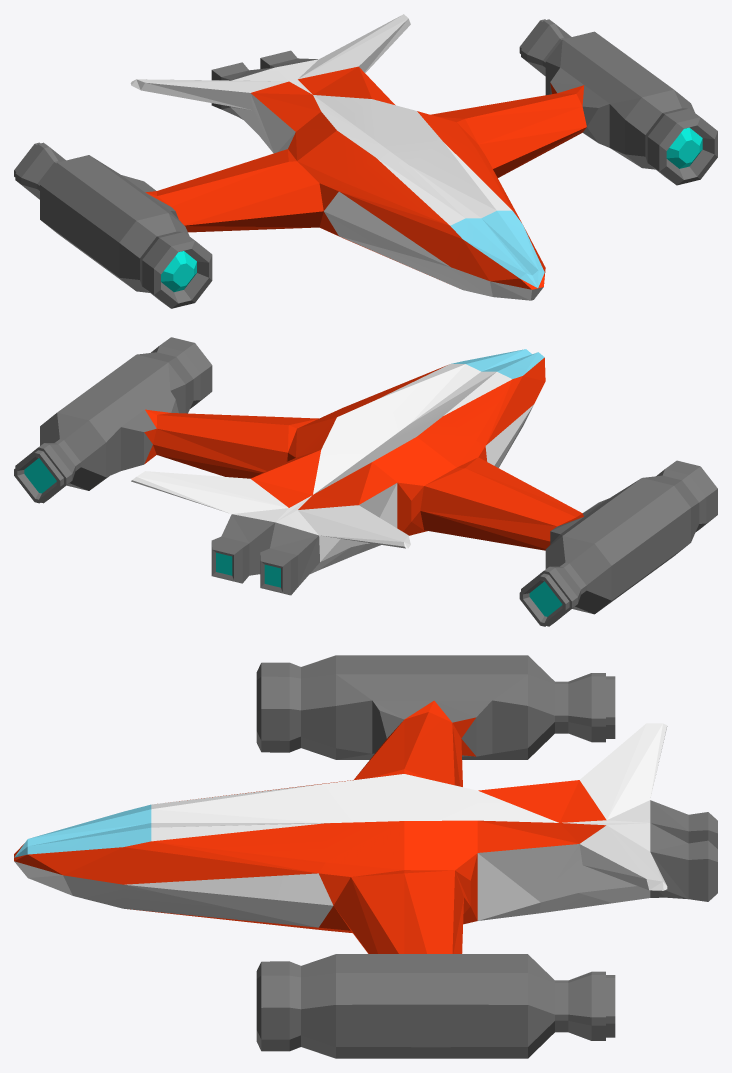
File: Spaceship_5.fbx
The picture shows the model from 3 angles, top to bottom: view 1: azimuth 30°, elevation 25°; view 2: azimuth 150°, elevation 25°; view 3: azimuth 270°, elevation 25°; orthographic projection. The views are drawn at different scales.
Parts seen in each view (by area): view 1: _13_2; view 2: _13_2; view 3: _13_2.
Part boxes in pixels (box(x1,y1,x2,y2)): _13_2: box(14, 14, 717, 308); _13_2: box(14, 337, 717, 626); _13_2: box(14, 655, 717, 1058).
Size of the model in its own units: 1049 by 151 by 923.
